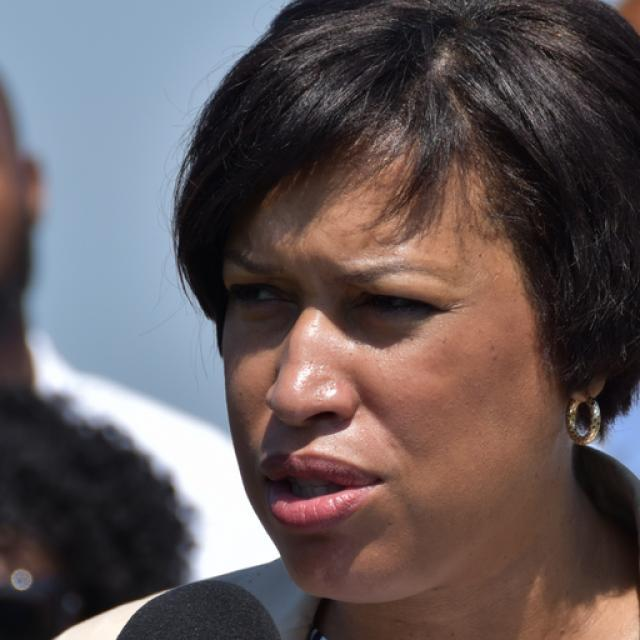disgust: (221, 112, 559, 604)
